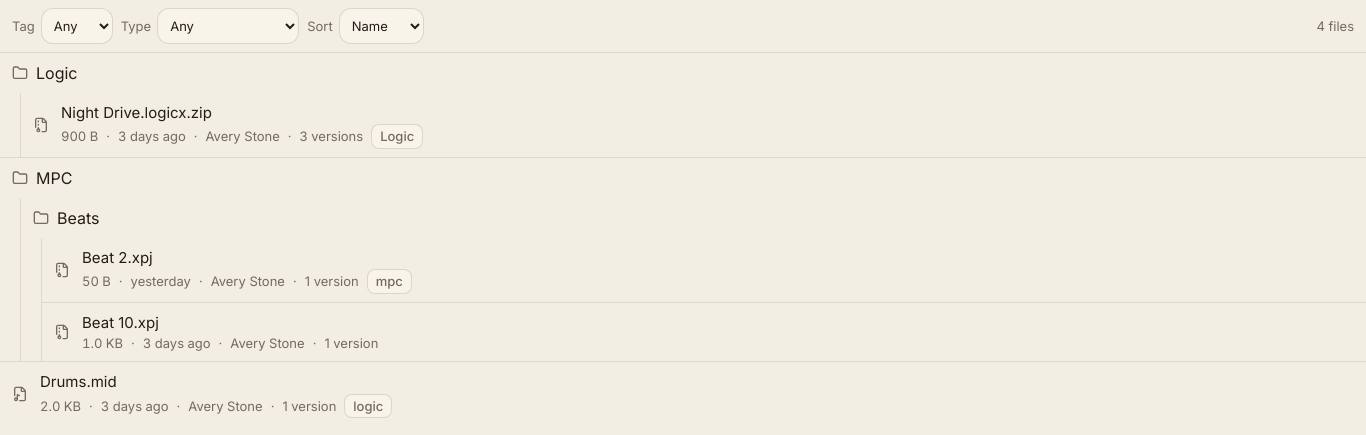
ProjectFiles › filters from the toolbar and from a tag chip
Select "MIDI" in the dropdown labelled "Type" at (228, 26), box [157,8,299,44]
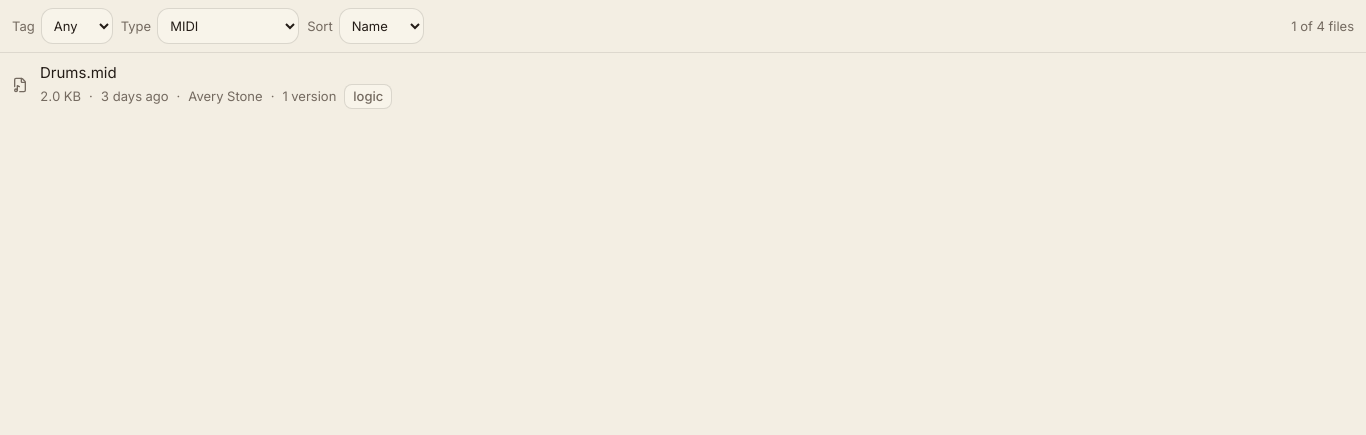
expect the text "1 of 4 files" is shown: met, box [1291,17,1354,35]
Select "Any" in the dropdown labelled "Type" at (228, 26), box [157,8,299,44]
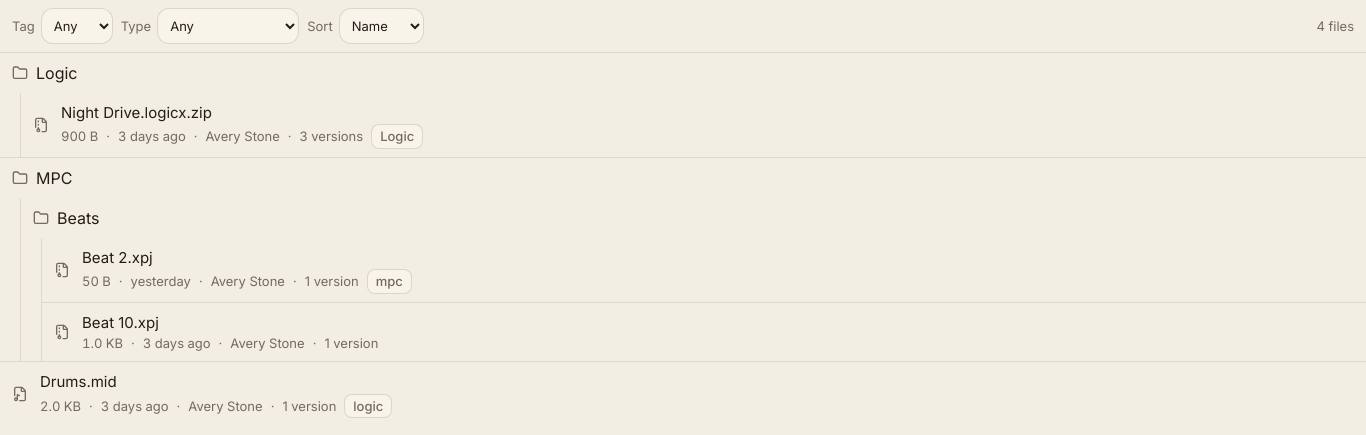
Click the button with aria-label "Show files tagged mpc" at (389, 282), box [367,269,412,294]
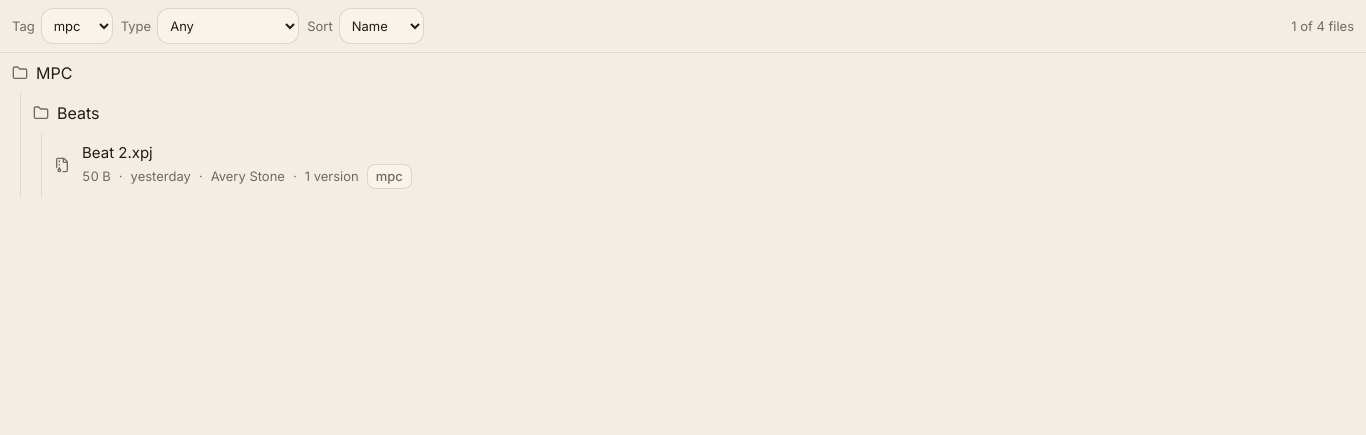
expect the text "1 of 4 files" is shown: met, box [1291,17,1354,35]
expect the dropdown labelled "Tag" shows "mpc": met, box [41,8,113,44]
